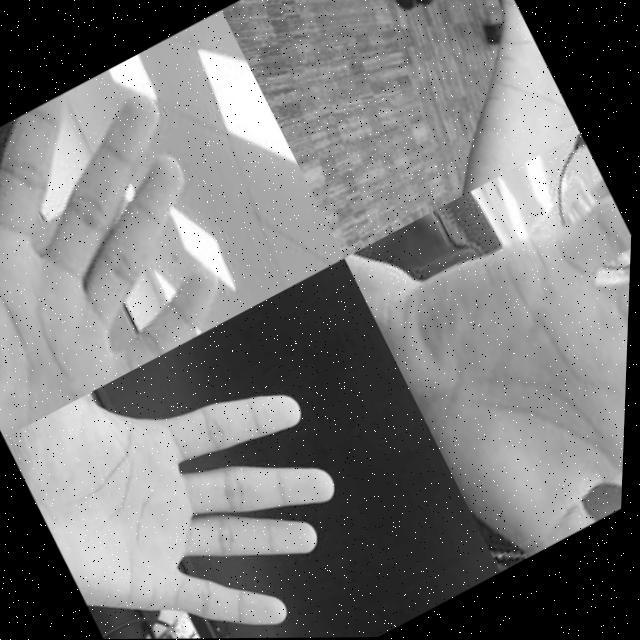no-gloves: (0, 304, 400, 640), (362, 181, 634, 573), (0, 54, 264, 436), (332, 0, 585, 207)
